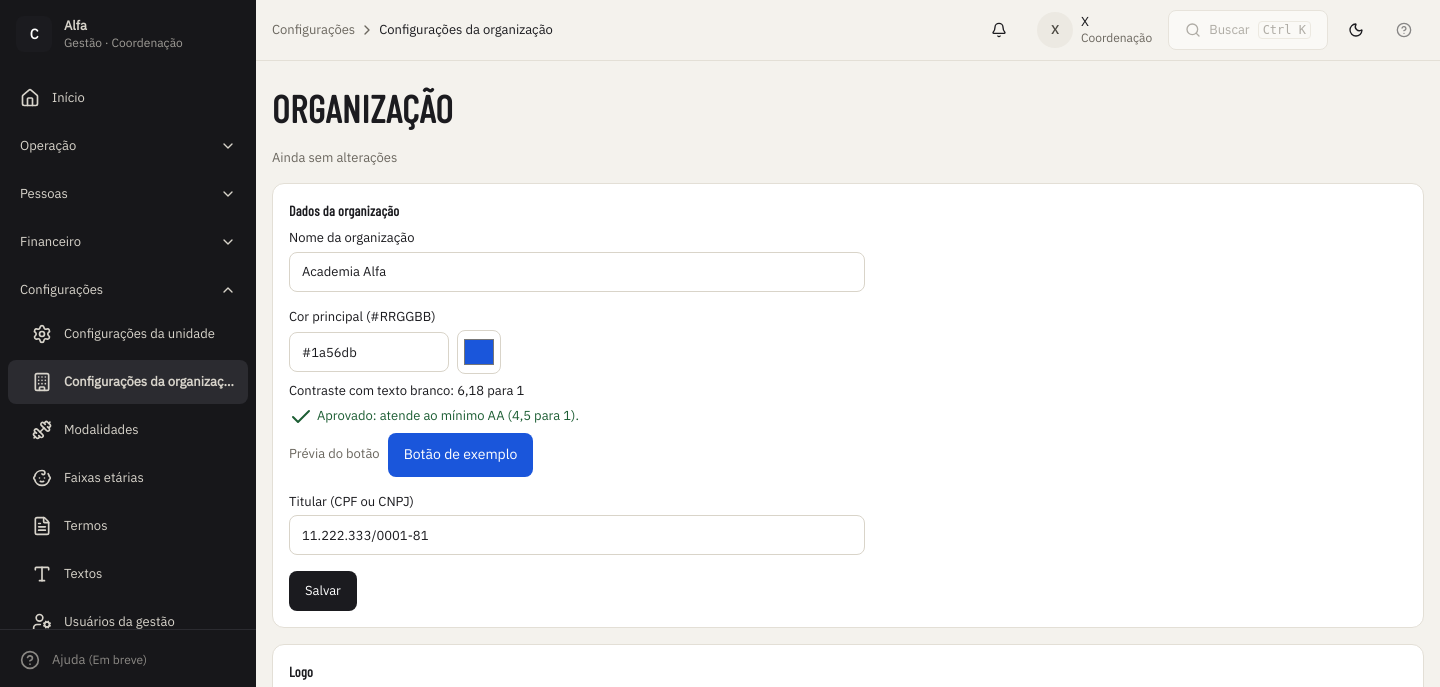
Test: OrganizationSettingsPage › CA15: o Coordenador altera nome, cor e titular, salva e vê a confirmação com os valores novos
Expected: the field labelled "Cor principal (#RRGGBB)" holds "#1a56db", [289, 332, 449, 372]
Expected: the field labelled "Titular (CPF ou CNPJ)" holds "11.222.333/0001-81", [289, 515, 865, 555]
Step 1. Replace the text in the field labelled "Nome da organização" with "Dojo Novo" → x=577, y=272, box [289, 252, 865, 292]
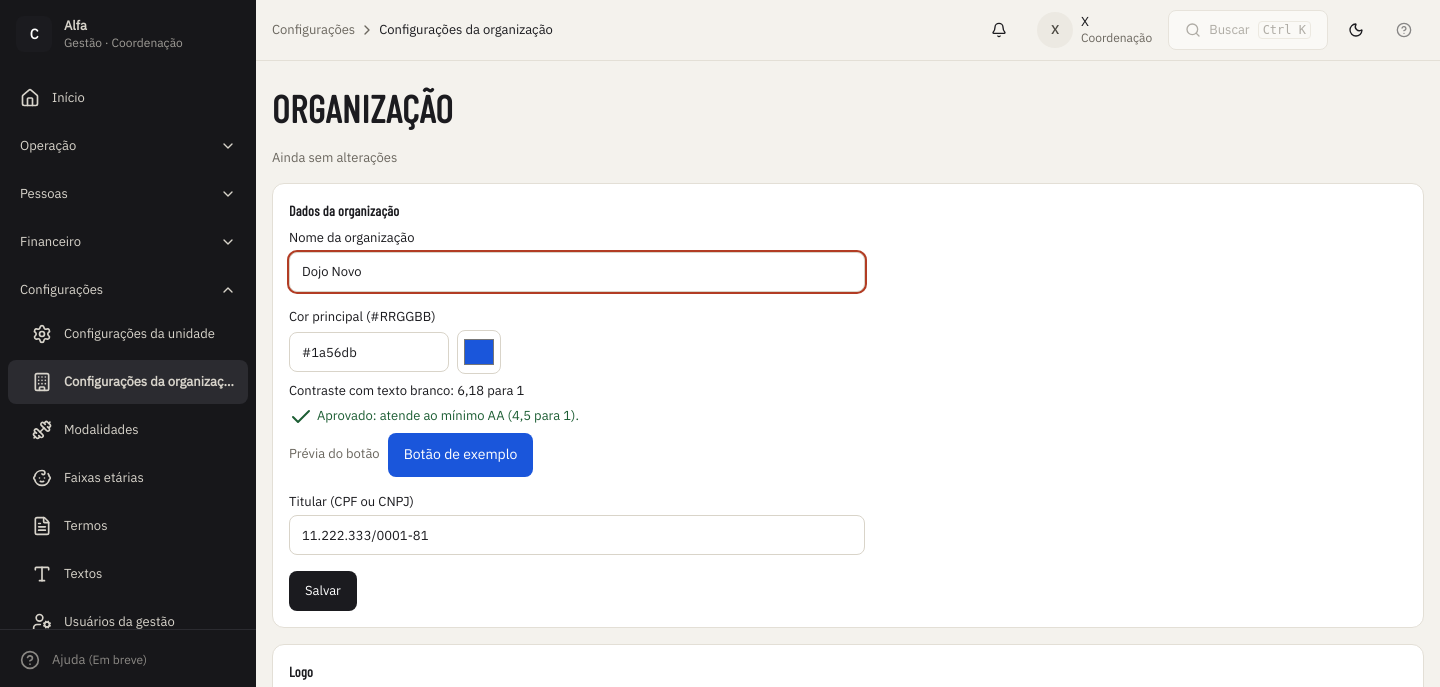
Step 2. Replace the text in the field labelled "Cor principal (#RRGGBB)" with "#0B6E4F" → x=369, y=352, box [289, 332, 449, 372]
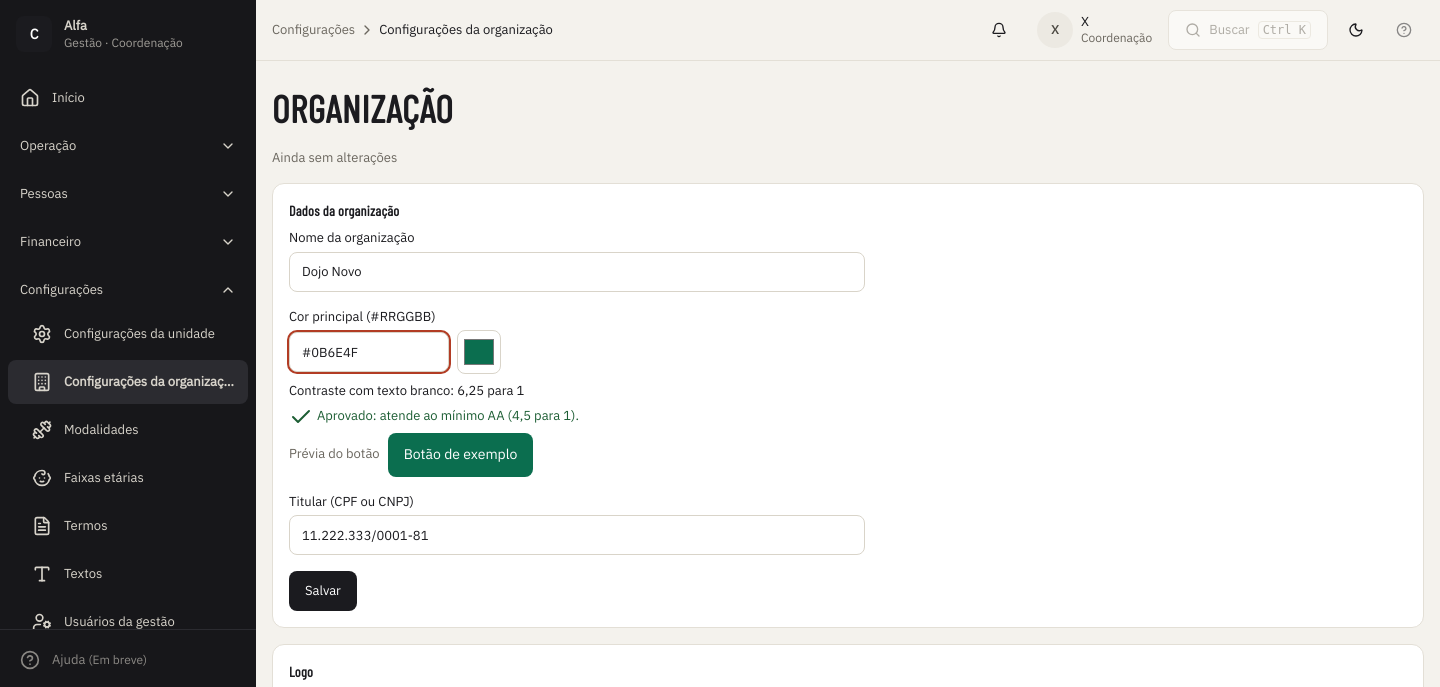
Step 3. Replace the text in the field labelled "Titular (CPF ou CNPJ)" with "52998224725" → x=577, y=535, box [289, 515, 865, 555]
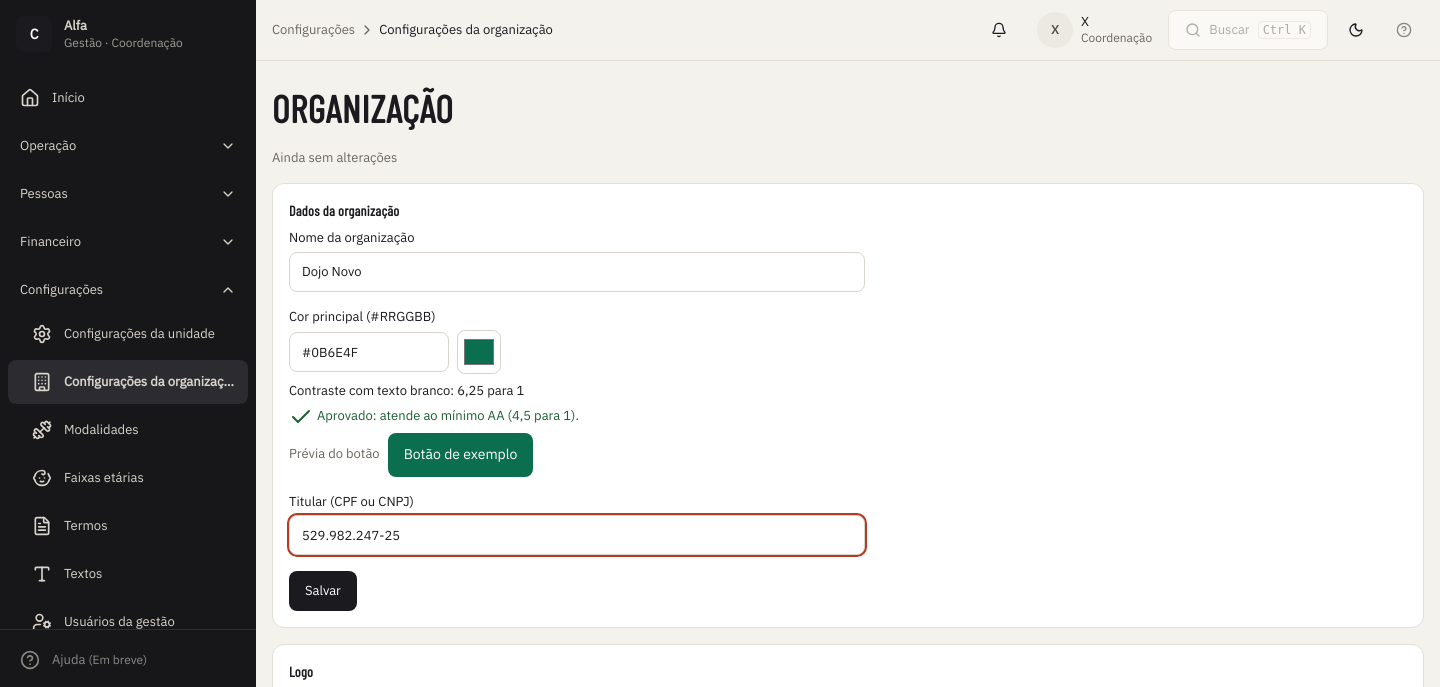
Expected: the field labelled "Titular (CPF ou CNPJ)" holds "529.982.247-25", [289, 515, 865, 555]
Step 4. Click the button "Salvar" → x=323, y=591, box [289, 571, 357, 611]
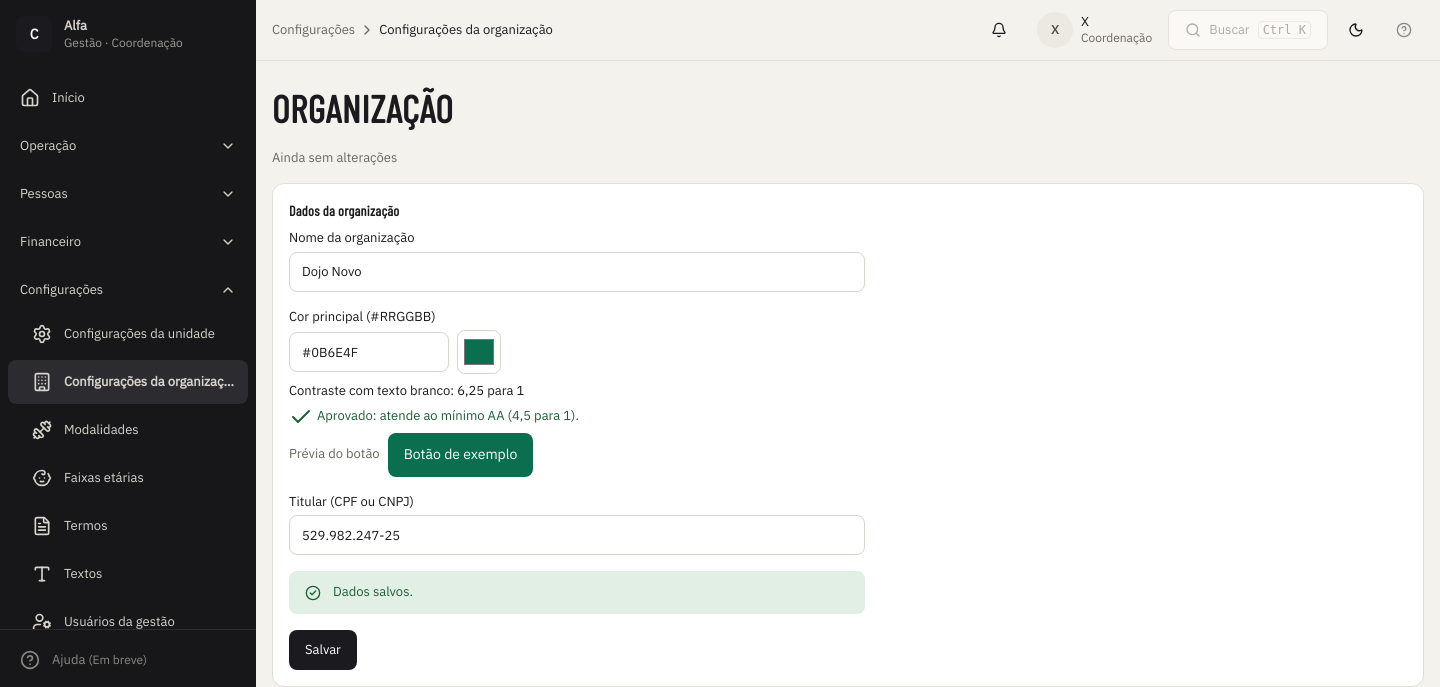
Expected: the text "Dados salvos." is shown, [333, 583, 413, 602]
